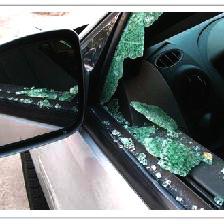glass_shatter: (3, 15, 219, 186)
